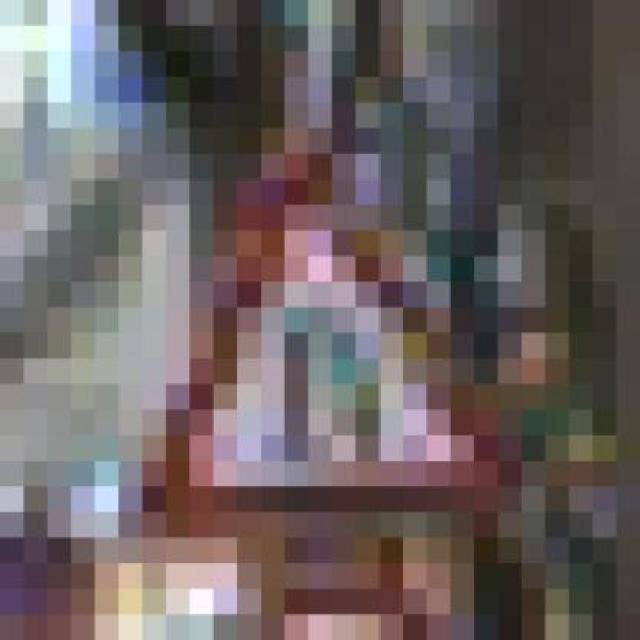-Road narrows on right: (94, 128, 546, 538)
